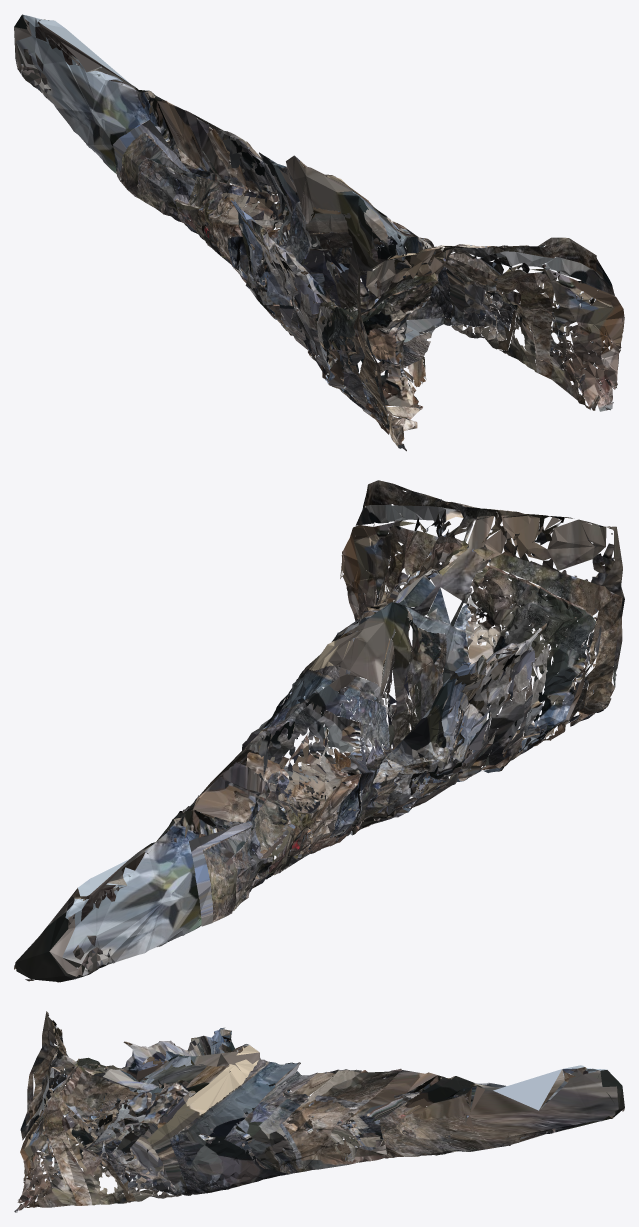
The model's file is scan-throat.glb.
The picture shows the model from 3 angles, top to bottom: view 1: azimuth 30°, elevation 25°; view 2: azimuth 150°, elevation 25°; view 3: azimuth 270°, elevation 25°; orthographic projection. The views are drawn at different scales.
Parts seen in each view (by area): view 1: scan; view 2: scan; view 3: scan.
Part boxes in pixels (left/top/right/bottom): scan: left=14, top=14, right=624, bottom=451; scan: left=14, top=480, right=624, bottom=982; scan: left=14, top=1011, right=624, bottom=1212.
Size of the model in its own units: 14 by 9.74 by 42.32.
4 materials, 4 textured.
